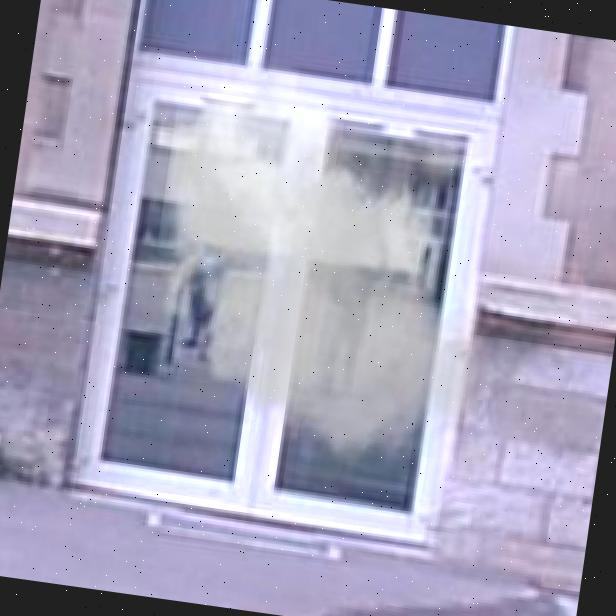smoke: (115, 46, 526, 495)
